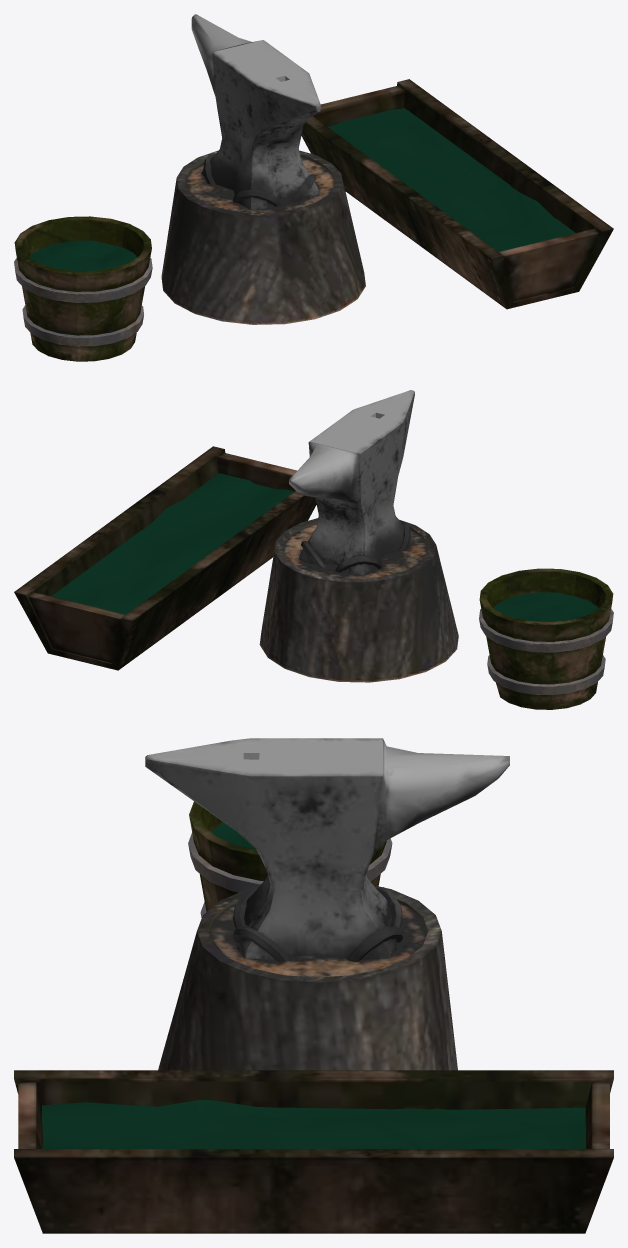
File: anvil-trough.lod0.glb
3 views of the same model, one above another, from view 1: azimuth 30°, elevation 25°; view 2: azimuth 150°, elevation 25°; view 3: azimuth 270°, elevation 25° (orthographic). The views are drawn at different scales.
Visible parts, largest first — view 1: bucket_anvil_and_water1_0; view 2: bucket_anvil_and_water1_0; view 3: bucket_anvil_and_water1_0.
Part boxes in pixels (x1,y1,x2,y2): bucket_anvil_and_water1_0: [14, 14, 613, 361]; bucket_anvil_and_water1_0: [14, 390, 613, 709]; bucket_anvil_and_water1_0: [14, 738, 613, 1233].
Size of the model in its own units: 3.2 by 1.39 by 2.28.
Materials: 1 (1 with a texture image).
